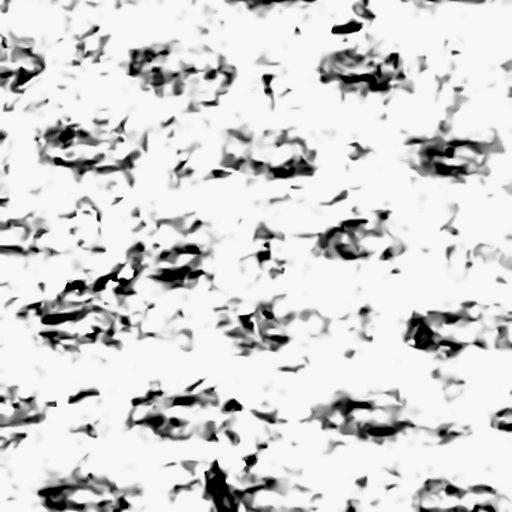egg: (332, 21, 361, 32)
